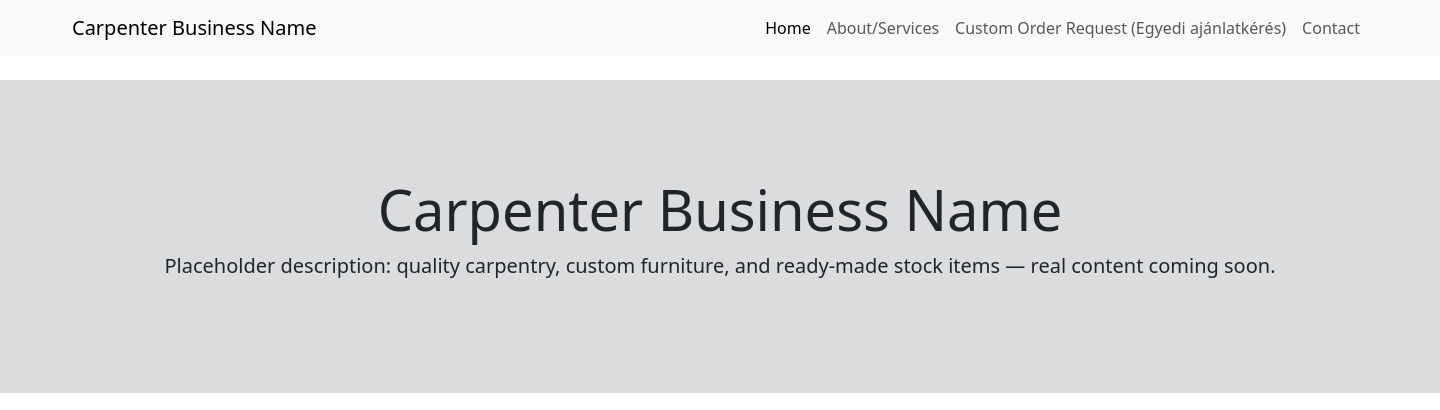
Scenario: App › reaches the Custom Order Request section from within Contact
What coordinates should you click on to do the following:
click the button "Contact"
I would click on:
 (1331, 28)
Its box is [1294,8,1368,48].
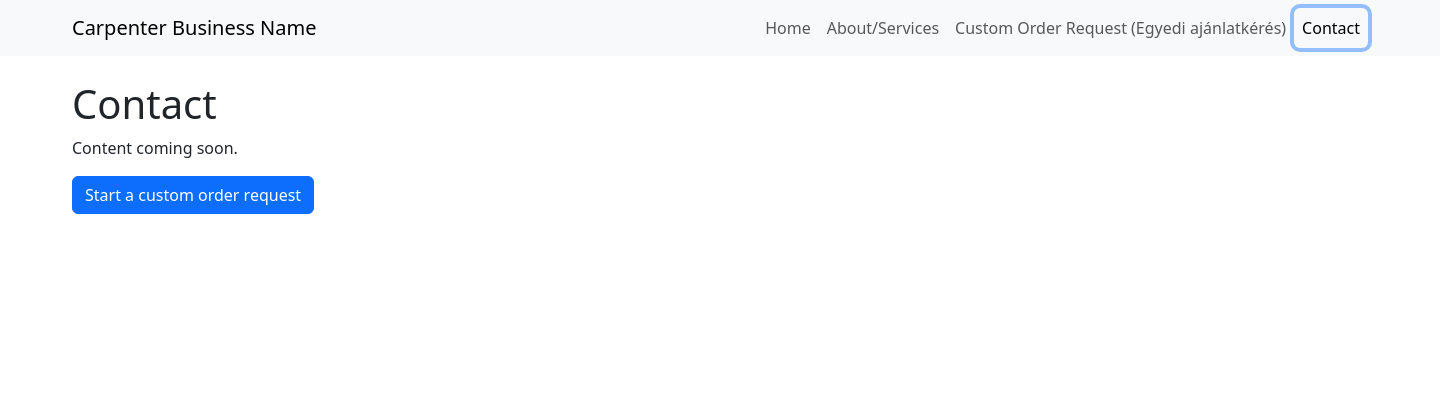
Now the heading "Contact" is shown, box [72,76,217,131]
What coordinates should you click on to do the following:
click the button "Start a custom order request"
I would click on:
 (193, 195)
Its box is [72,176,314,214].
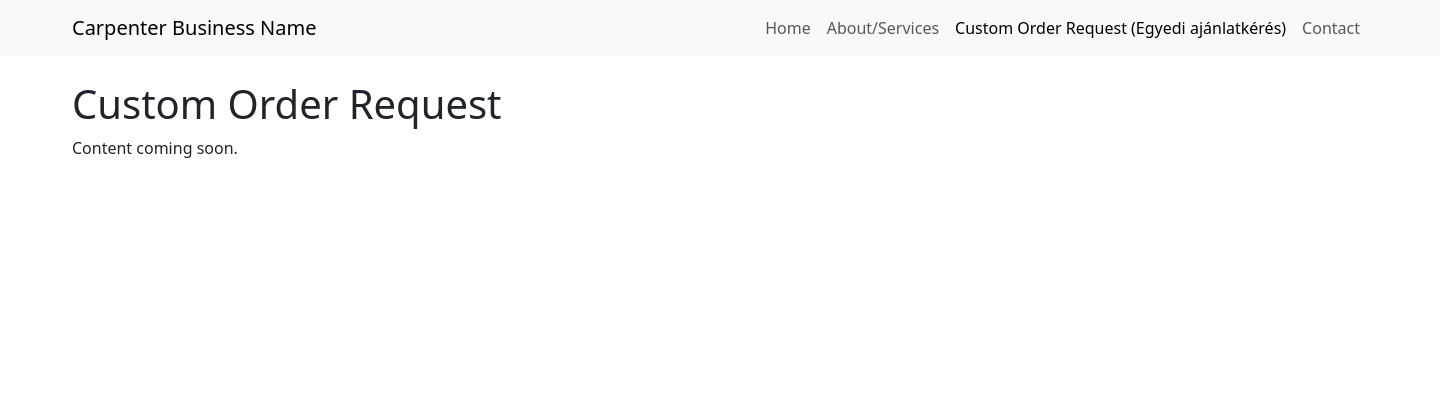
Now the heading "Custom Order Request" is shown, box [72,76,502,131]
